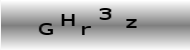3: (98, 6, 113, 21)
G: (38, 21, 54, 36)
H: (59, 13, 76, 27)
r: (80, 25, 93, 36)
z: (124, 18, 139, 29)
